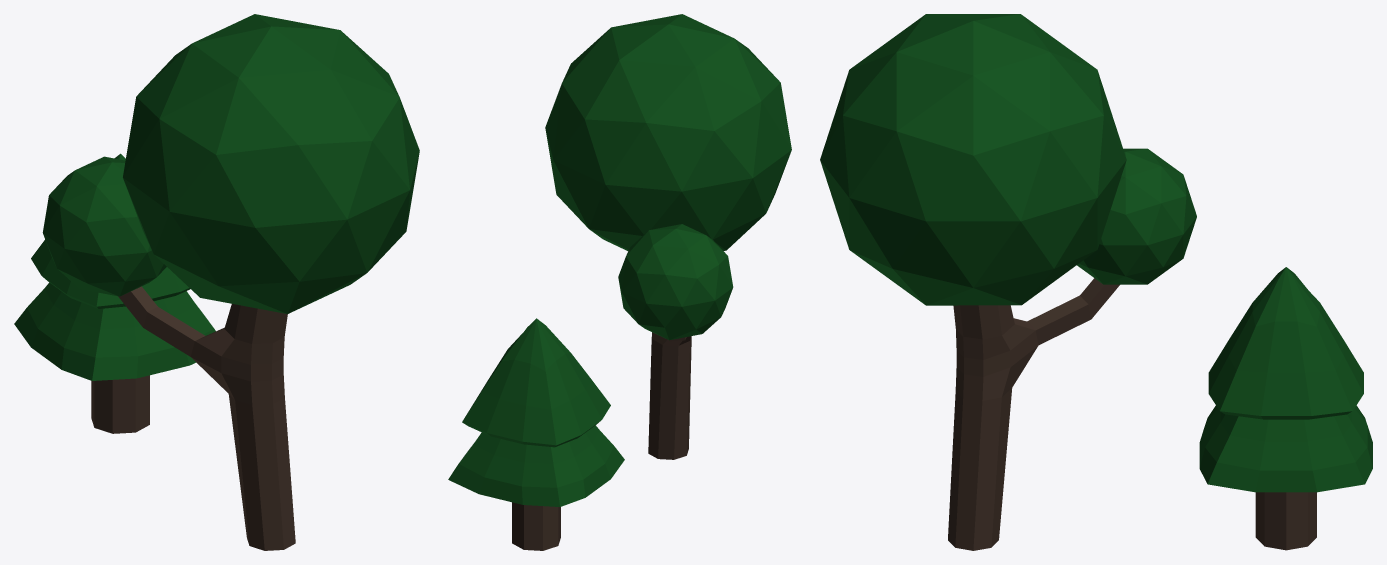
Rendered from trees.fbx.
3 views of the same model, side by side, from view 1: azimuth 30°, elevation 25°; view 2: azimuth 150°, elevation 25°; view 3: azimuth 270°, elevation 25° (orthographic). The views are drawn at different scales.
Parts seen in each view (by area): view 1: tree3, tree4; view 2: tree3, tree4; view 3: tree3, tree4.
Part boxes in pixels (left/top/right/bottom): tree3: left=42, top=14, right=419, bottom=550; tree4: left=14, top=153, right=215, bottom=433; tree3: left=545, top=14, right=791, bottom=459; tree4: left=448, top=318, right=624, bottom=550; tree3: left=820, top=14, right=1196, bottom=550; tree4: left=1199, top=267, right=1372, bottom=550.
Size of the model in its own units: 3050 by 5604 by 5407.
